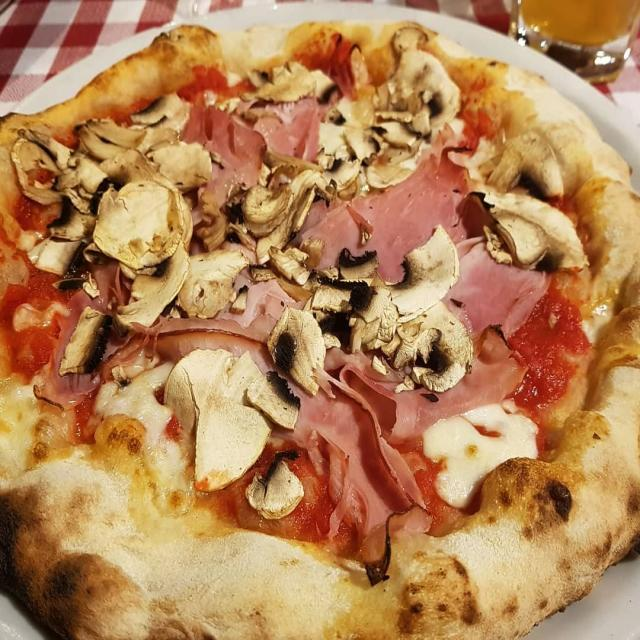mushrooms: (9, 88, 212, 220), (314, 28, 456, 200), (160, 352, 296, 491), (310, 225, 458, 348), (243, 154, 359, 278), (100, 178, 190, 334), (377, 302, 475, 396), (481, 191, 584, 279), (232, 52, 334, 114), (268, 300, 328, 398), (26, 208, 101, 282), (484, 128, 562, 194), (56, 302, 115, 384), (247, 452, 304, 522)
pizza: (0, 5, 640, 640)
